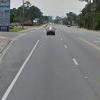Car: (38, 21, 60, 42)
